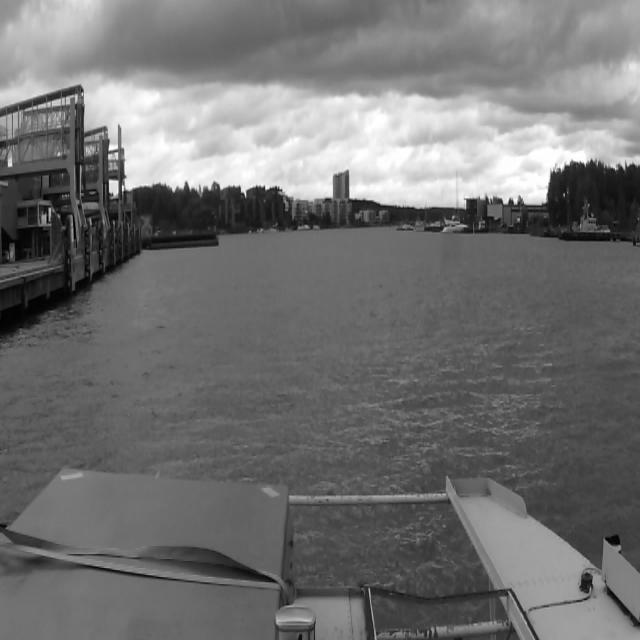ship: (560, 201, 612, 242), (442, 217, 468, 231), (396, 222, 414, 230)
